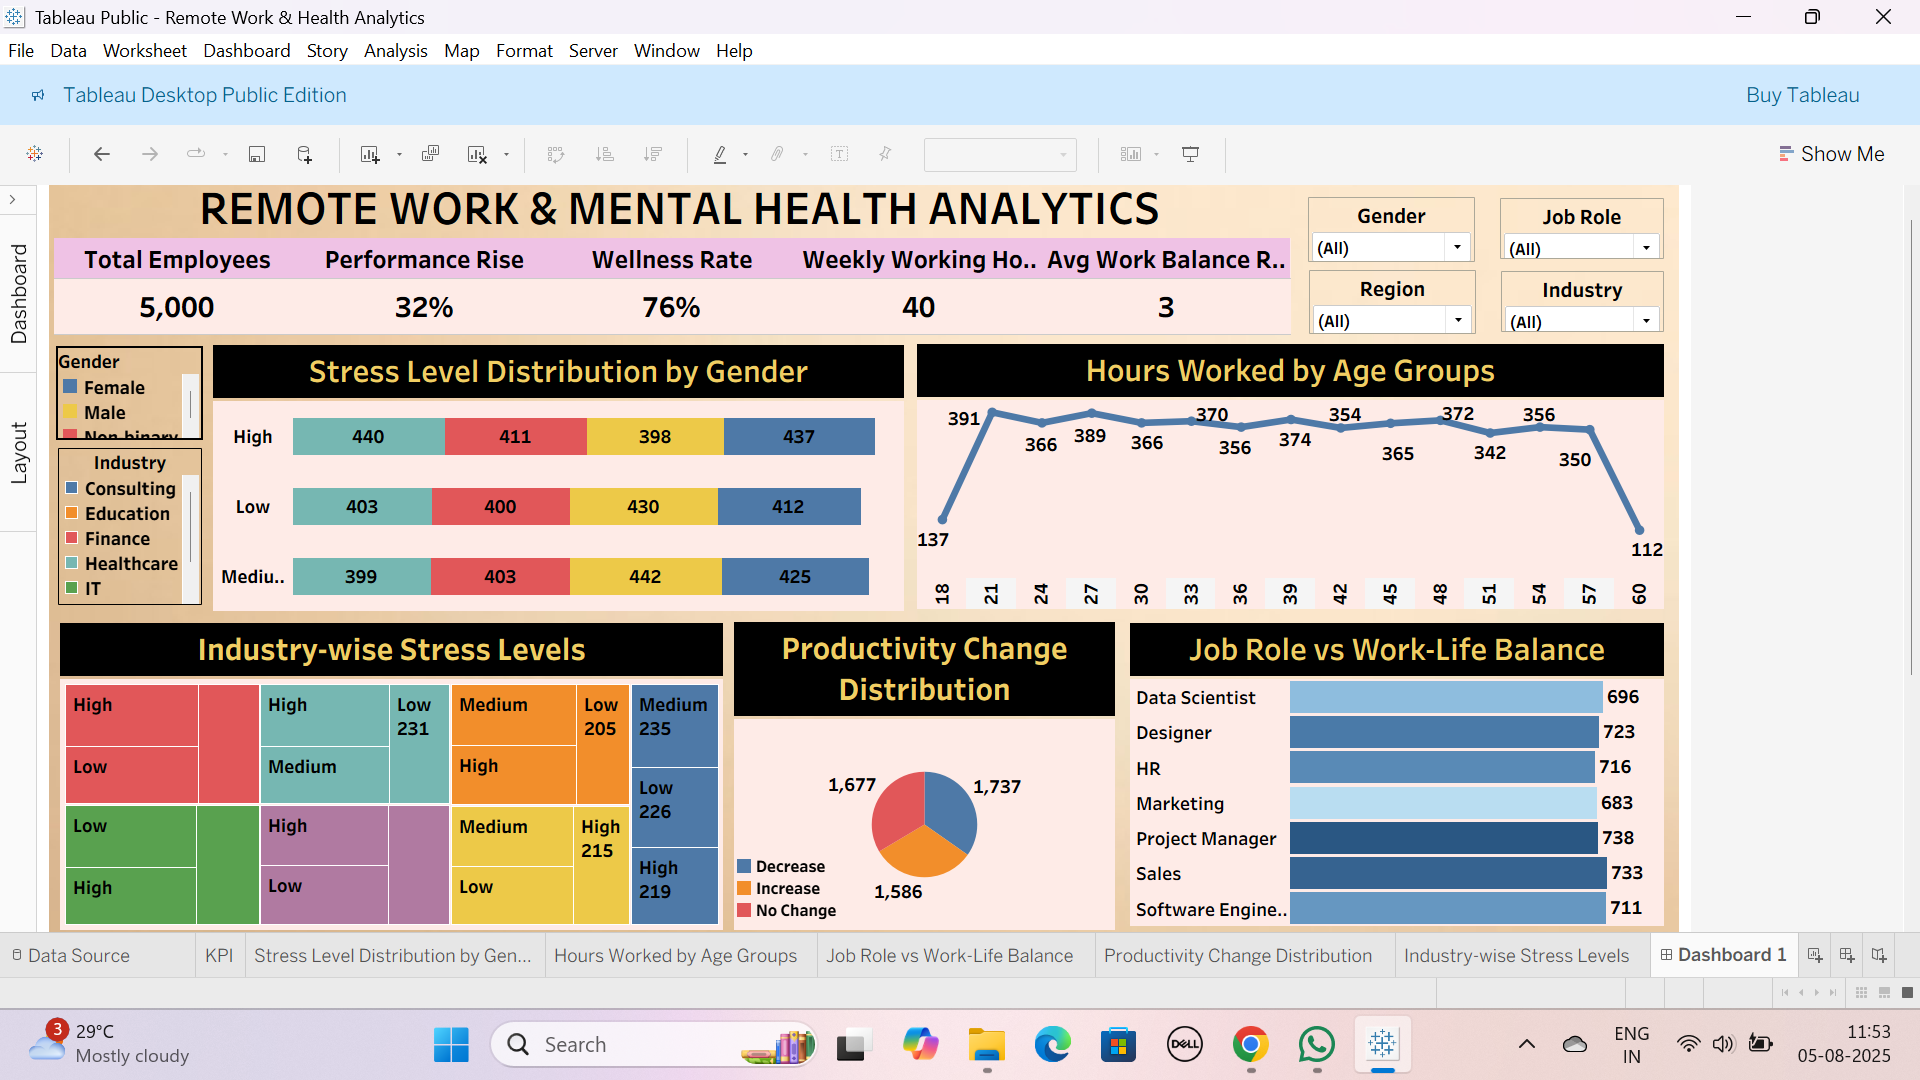

The dashboard page shown, as its layout file describes it:
{"tool":"tableau","page":{"name":"Dashboard 1","canvas":[1654,1169],"ordinal":0},"visuals":[{"type":"image","param":"Image/colour.jpg","box":[8,8,1638,1153]},{"type":"text","box":[26,18,1233,66]},{"type":"filter","title":"Stress Level Distribution by Gender","param":"[federated.1awyz3s1w3ywzi19yyogb0qzyfhb].[none:Gender:nk]","box":[1271,42,167,65]},{"type":"filter","title":"Job Role vs Work-Life Balance","param":"[federated.1awyz3s1w3ywzi19yyogb0qzyfhb].[none:Job_Role:nk]","box":[1463,43,164,61]},{"type":"worksheet","title":"KPI","mark":"Automatic","box":[17,83,1237,97]},{"type":"filter","title":"Hours Worked by Age Groups","param":"[federated.1awyz3s1w3ywzi19yyogb0qzyfhb].[none:Region:nk]","box":[1272,115,167,64]},{"type":"filter","title":"Industry-wise Stress Levels","param":"[federated.1awyz3s1w3ywzi19yyogb0qzyfhb].[none:Industry:nk]","box":[1464,116,163,61]},{"type":"worksheet","title":"Hours Worked by Age Groups","mark":"Line","rows":["Calculation_1206401787872448520"],"cols":["Hours Worked Per Week (bin)"],"box":[880,189,747,265]},{"type":"worksheet","title":"Stress Level Distribution by Gender","mark":"Automatic","rows":["Stress_Level"],"cols":["Calculation_1206401787872448520"],"box":[176,190,691,266]},{"type":"legend","title":"Stress Level Distribution by Gender","param":"[federated.1awyz3s1w3ywzi19yyogb0qzyfhb].[none:Gender:nk]","box":[19,191,147,94]},{"type":"legend","title":"Industry-wise Stress Levels","param":"[federated.1awyz3s1w3ywzi19yyogb0qzyfhb].[none:Industry:nk]","box":[21,293,144,157]},{"type":"worksheet","title":"Productivity Change Distribution","mark":"Pie","box":[697,467,381,308]},{"type":"worksheet","title":"Industry-wise Stress Levels","mark":"Automatic","box":[23,468,663,307]},{"type":"worksheet","title":"Job Role vs Work-Life Balance","mark":"Automatic","rows":["Job_Role"],"cols":["Work_Life_Balance_Rating"],"box":[1093,468,534,303]},{"type":"legend","title":"Productivity Change Distribution","param":"[federated.1awyz3s1w3ywzi19yyogb0qzyfhb].[none:Productivity_Change:nk]","box":[696,700,124,73]}]}

Visuals, with their boxes on the page's 1654x1169 design canvas (x1, y1, x2, y2). These are canvas units, not pixel positions in the 1920x1080 screenshot, which may show the page scaled, cropped or inside an application window:
image: [left=8, top=8, right=1646, bottom=1161]
text: [left=26, top=18, right=1259, bottom=84]
"Stress Level Distribution by Gender" filter: [left=1271, top=42, right=1438, bottom=107]
"Job Role vs Work-Life Balance" filter: [left=1463, top=43, right=1627, bottom=104]
"KPI" worksheet: [left=17, top=83, right=1254, bottom=180]
"Hours Worked by Age Groups" filter: [left=1272, top=115, right=1439, bottom=179]
"Industry-wise Stress Levels" filter: [left=1464, top=116, right=1627, bottom=177]
"Hours Worked by Age Groups" worksheet (Line marks): [left=880, top=189, right=1627, bottom=454]
"Stress Level Distribution by Gender" worksheet: [left=176, top=190, right=867, bottom=456]
"Stress Level Distribution by Gender" legend: [left=19, top=191, right=166, bottom=285]
"Industry-wise Stress Levels" legend: [left=21, top=293, right=165, bottom=450]
"Productivity Change Distribution" worksheet (Pie marks): [left=697, top=467, right=1078, bottom=775]
"Industry-wise Stress Levels" worksheet: [left=23, top=468, right=686, bottom=775]
"Job Role vs Work-Life Balance" worksheet: [left=1093, top=468, right=1627, bottom=771]
"Productivity Change Distribution" legend: [left=696, top=700, right=820, bottom=773]
